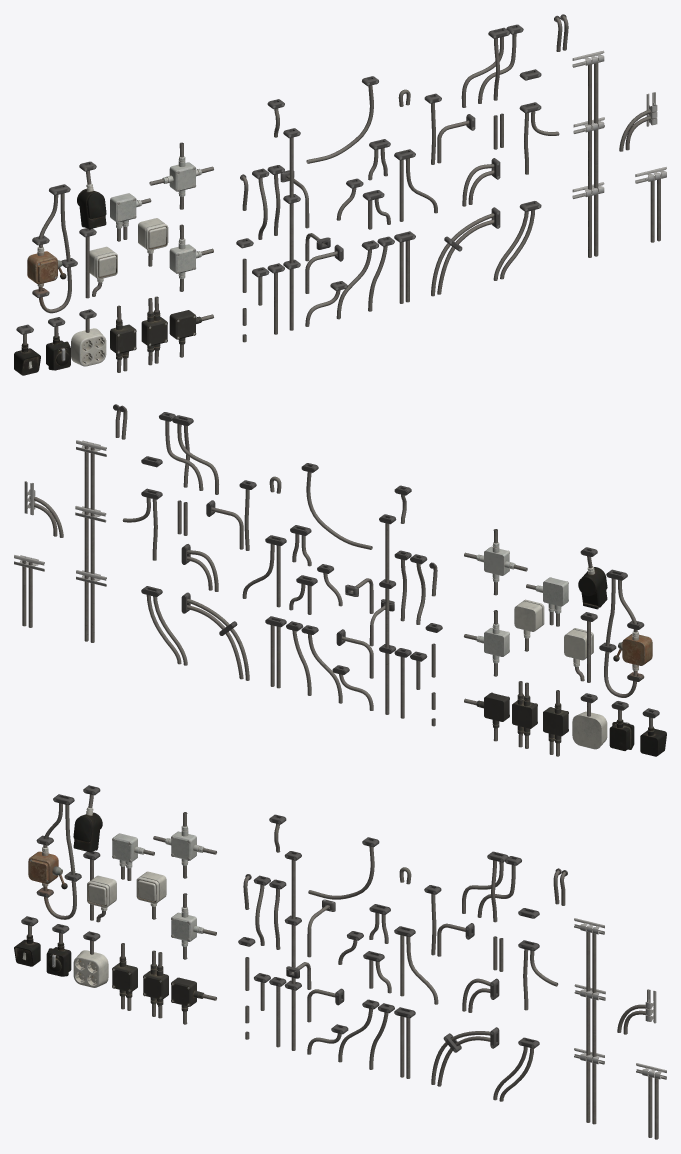
Rendered from modular_electric_cables.glb.
The picture shows the model from 3 angles, top to bottom: view 1: azimuth 30°, elevation 25°; view 2: azimuth 150°, elevation 25°; view 3: azimuth 330°, elevation 25°; orthographic projection.
Parts seen in each view (by area): view 1: cable_straight_medium, cable_box_3way; view 2: cable_straight_medium, cable_box_3way; view 3: cable_straight_medium, cable_box_3way.
Boxes of the visible parts, x1,y1,x2,y2 form: cable_straight_medium: (236, 14, 666, 342); cable_box_3way: (14, 142, 213, 375); cable_straight_medium: (14, 404, 442, 726); cable_box_3way: (464, 529, 666, 756); cable_straight_medium: (238, 814, 666, 1139); cable_box_3way: (14, 785, 216, 1024).
Size of the model in its own units: 2.08 by 0.7572 by 0.2146.
Materials: 2 (2 with a texture image).
